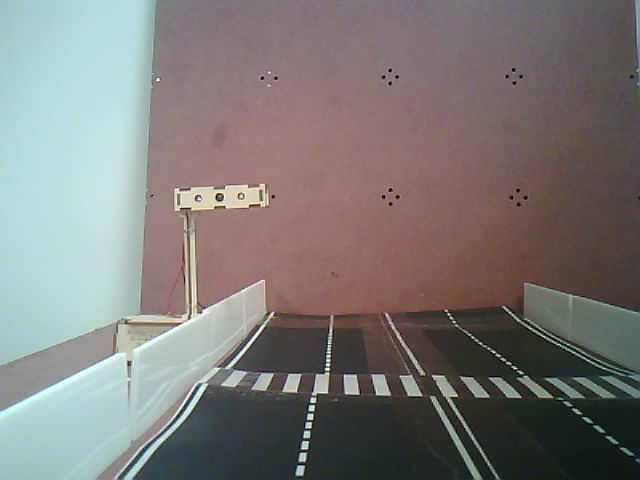crosswalk: (187, 346, 640, 427)
no: (124, 166, 334, 257)
